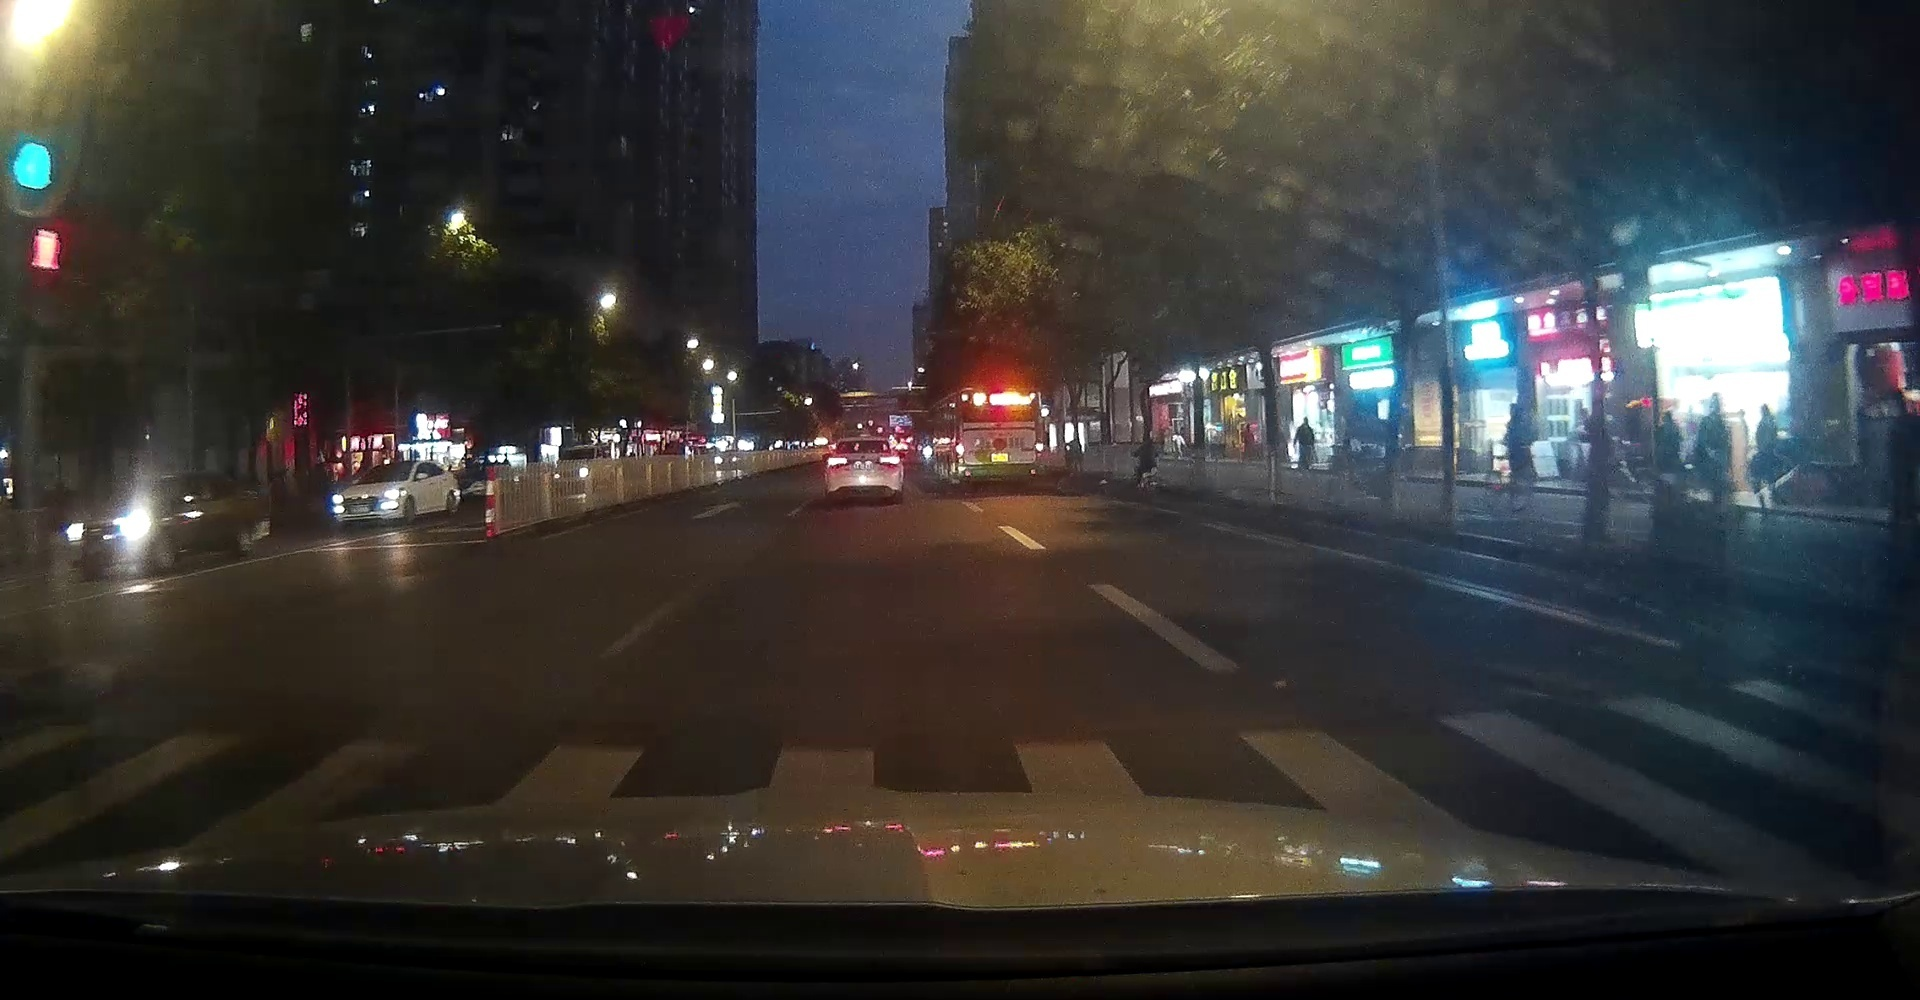L_light: (827, 456, 848, 467), (955, 440, 965, 463)
R_light: (879, 456, 900, 464), (1035, 439, 1044, 459)
T_light: (858, 439, 871, 443), (992, 390, 1004, 393)
night-brake: (955, 387, 1044, 489)
night-no: (825, 437, 902, 504)
